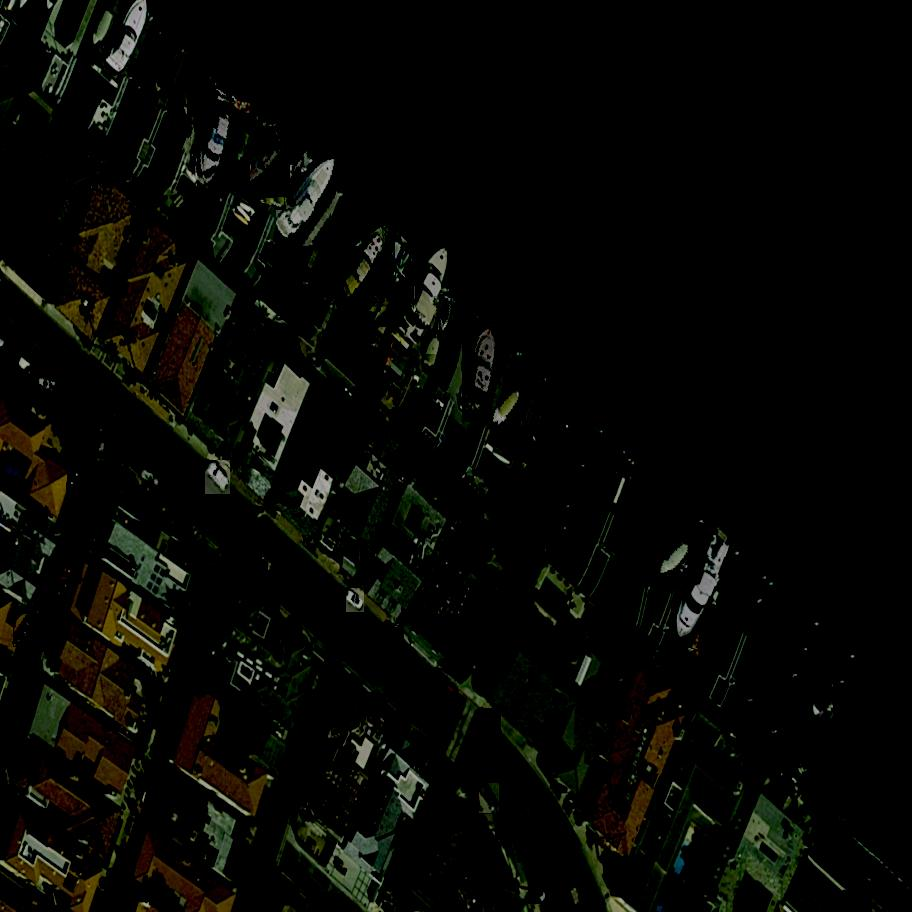ship: (388, 235, 461, 356), (668, 523, 737, 649), (270, 148, 349, 246), (360, 226, 420, 328), (332, 217, 400, 307), (231, 126, 295, 198), (461, 318, 502, 422), (196, 87, 235, 191), (487, 386, 528, 431), (654, 540, 696, 581), (225, 127, 254, 172), (809, 671, 835, 719), (186, 68, 212, 115), (150, 57, 175, 98), (533, 382, 554, 427), (421, 331, 441, 372), (517, 428, 533, 477), (503, 418, 523, 456), (439, 294, 453, 335), (275, 166, 285, 210), (235, 100, 251, 114)
small-vehicle: (13, 606, 46, 647), (202, 460, 233, 495), (241, 560, 271, 595), (473, 708, 505, 738), (427, 670, 460, 695), (527, 872, 551, 905), (60, 547, 80, 584), (137, 469, 167, 493), (478, 783, 501, 814), (89, 434, 109, 469), (341, 589, 368, 614), (33, 375, 62, 397), (67, 458, 86, 490), (383, 628, 408, 647), (54, 583, 65, 617)
